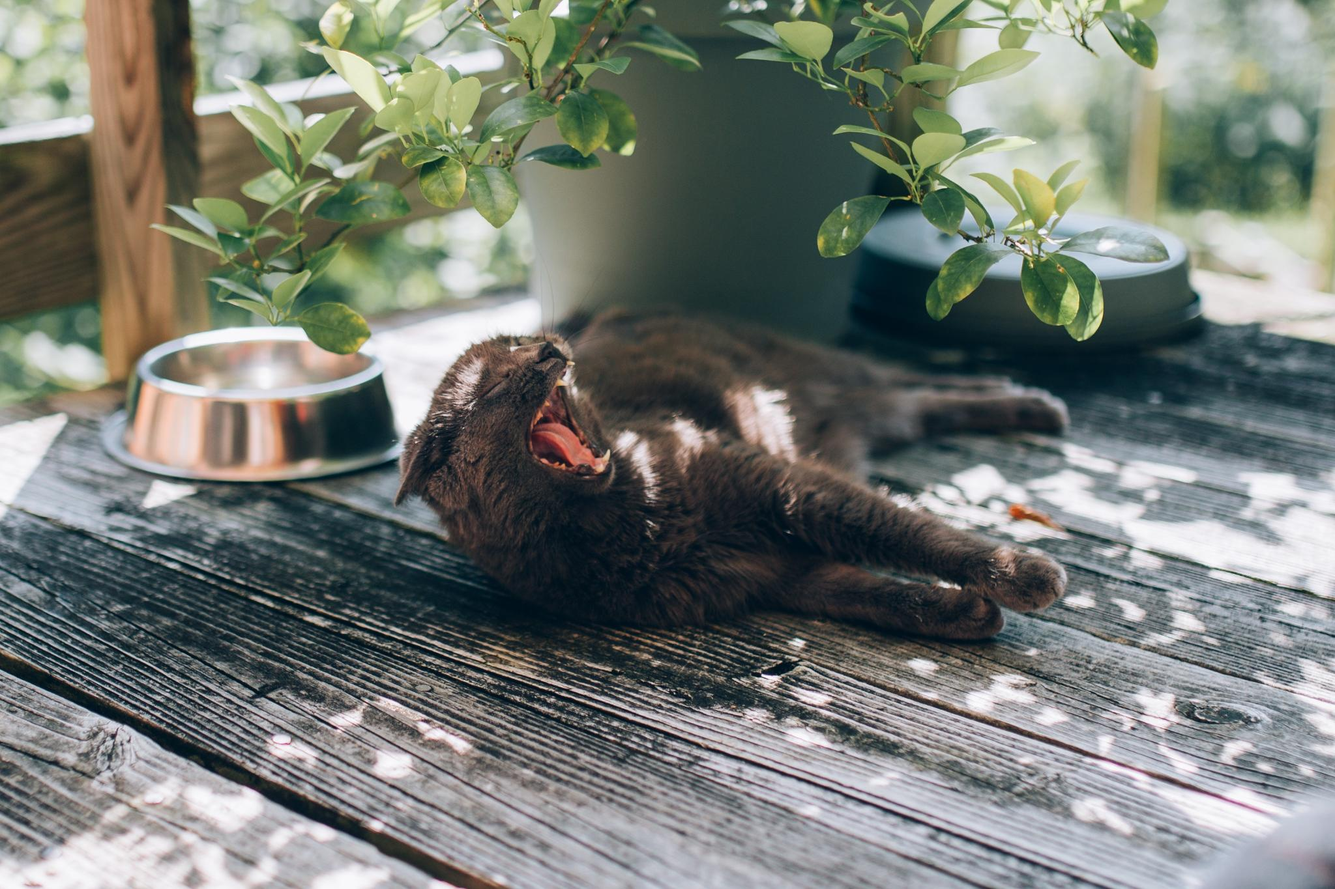cat: (394, 304, 1071, 642)
